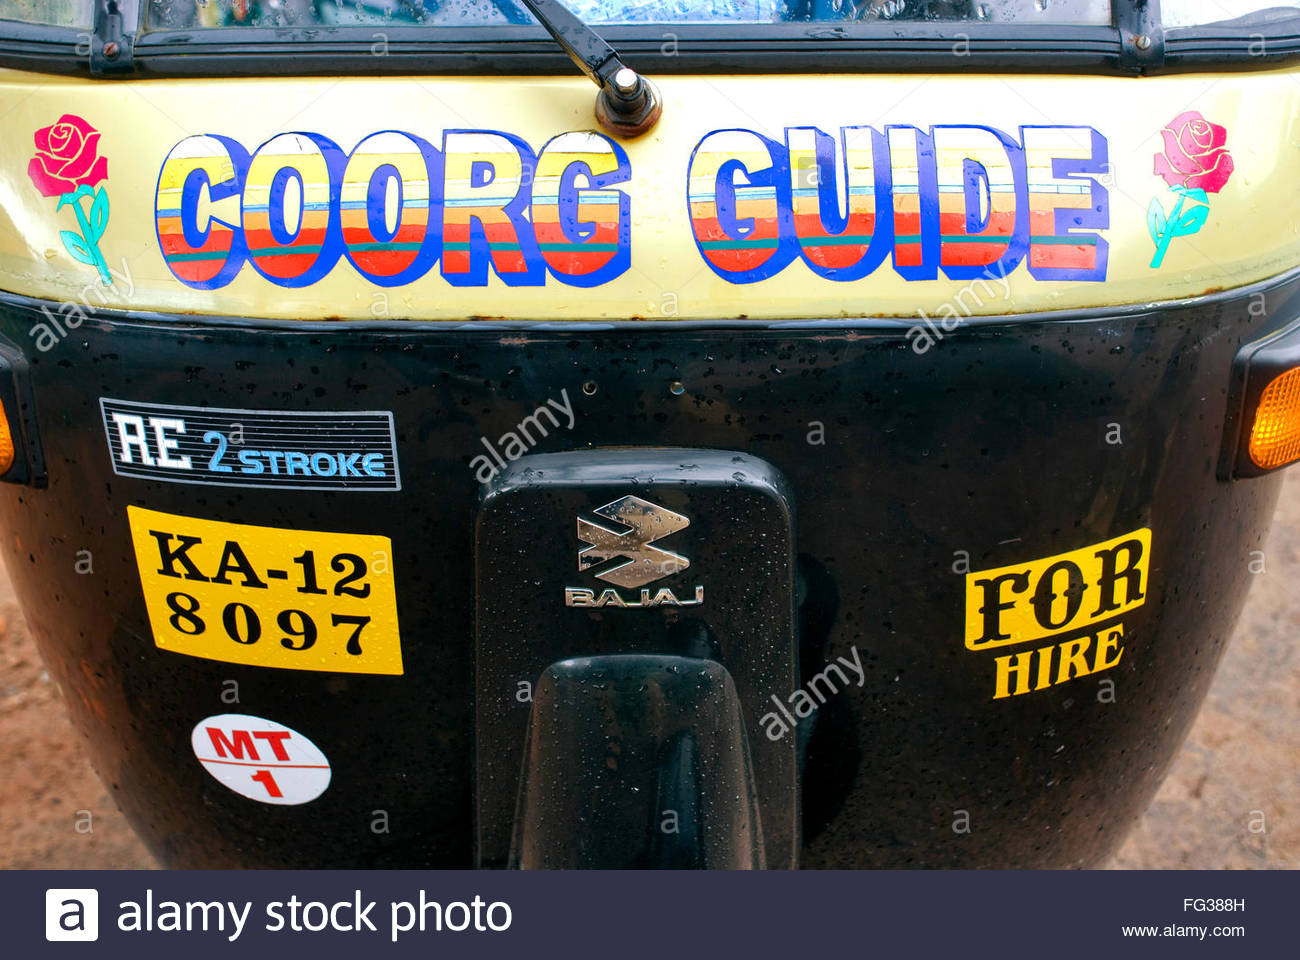doublelinenumberplate: (119, 494, 406, 680)
